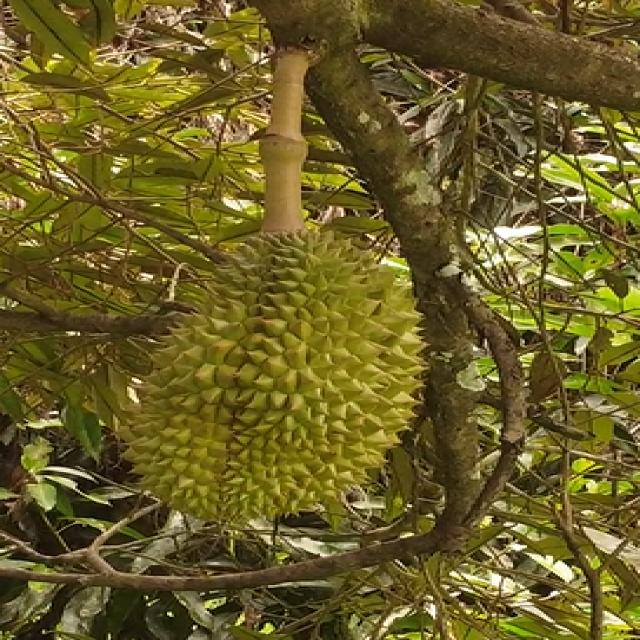immature: (120, 231, 430, 528)
